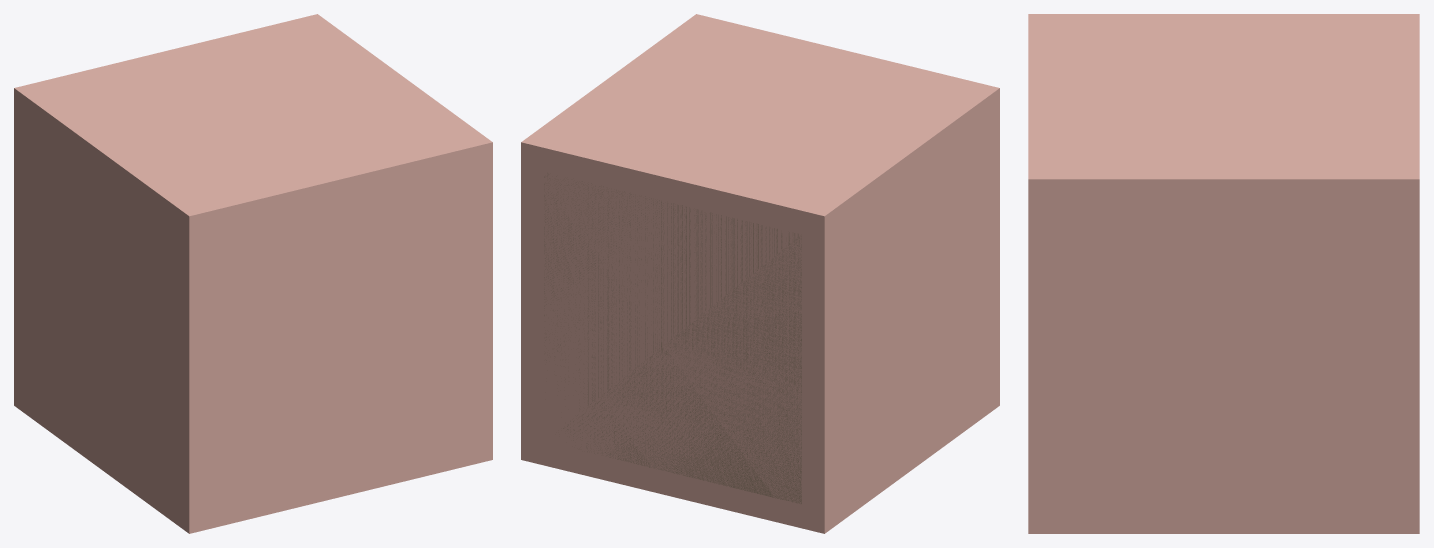
File: 69_ashbloom.glb
The picture shows the model from 3 angles, left to right: view 1: azimuth 30°, elevation 25°; view 2: azimuth 150°, elevation 25°; view 3: azimuth 270°, elevation 25°; orthographic projection. The views are drawn at different scales.
Visible parts, largest first — view 1: Core; view 2: Core, Soil; view 3: Core.
Boxes of the visible parts, x1=… form: Core: x1=14, y1=14, x2=492, y2=533; Core: x1=521, y1=14, x2=999, y2=533; Soil: x1=544, y1=173, x2=801, y2=503; Core: x1=1028, y1=14, x2=1419, y2=533.
Bounding box in the file's own units: 1 × 1 × 1.
